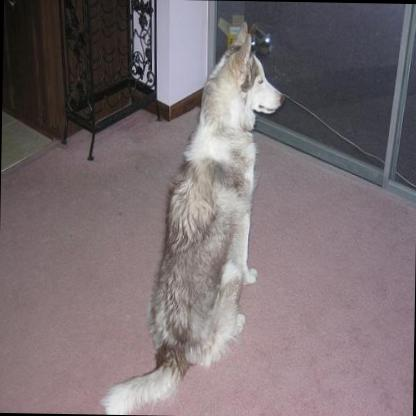Siberian_husky: (100, 16, 286, 415)
